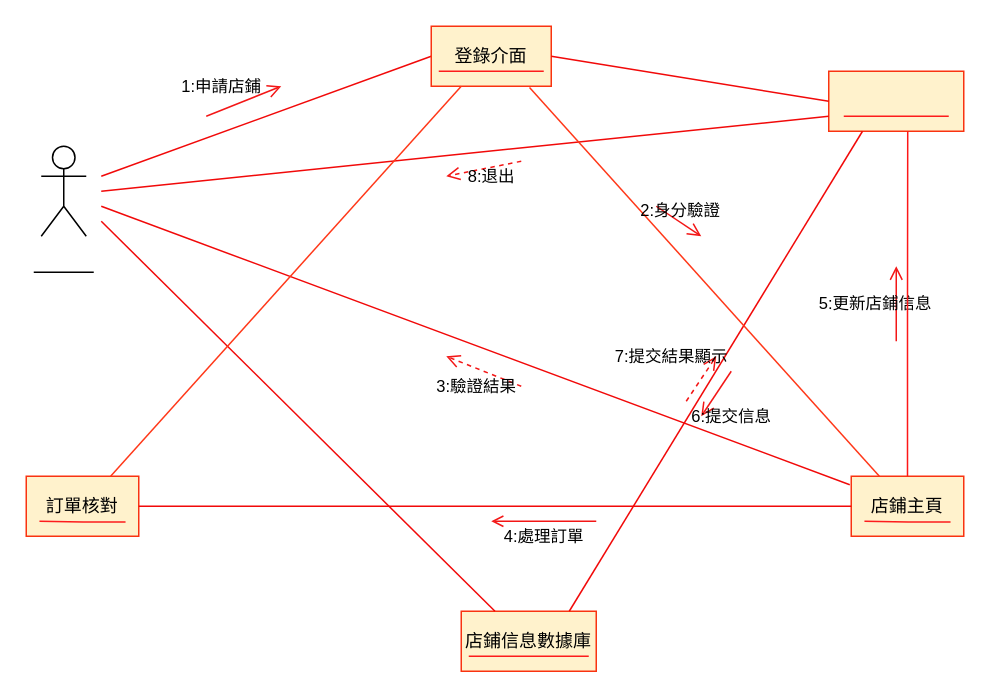
The diagram is 990 pixels wide and 698 high, and some of its shapes have lost their labels. Here are the shapes that lost their labels. From the top down, the centre of each, then its label:
At (895,100): "店鋪信息管理".
At (63,190): "訂餐者".
